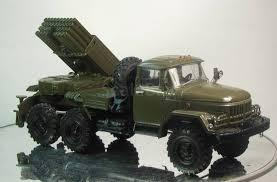MIL_SAM_TEL: (15, 14, 266, 162)
